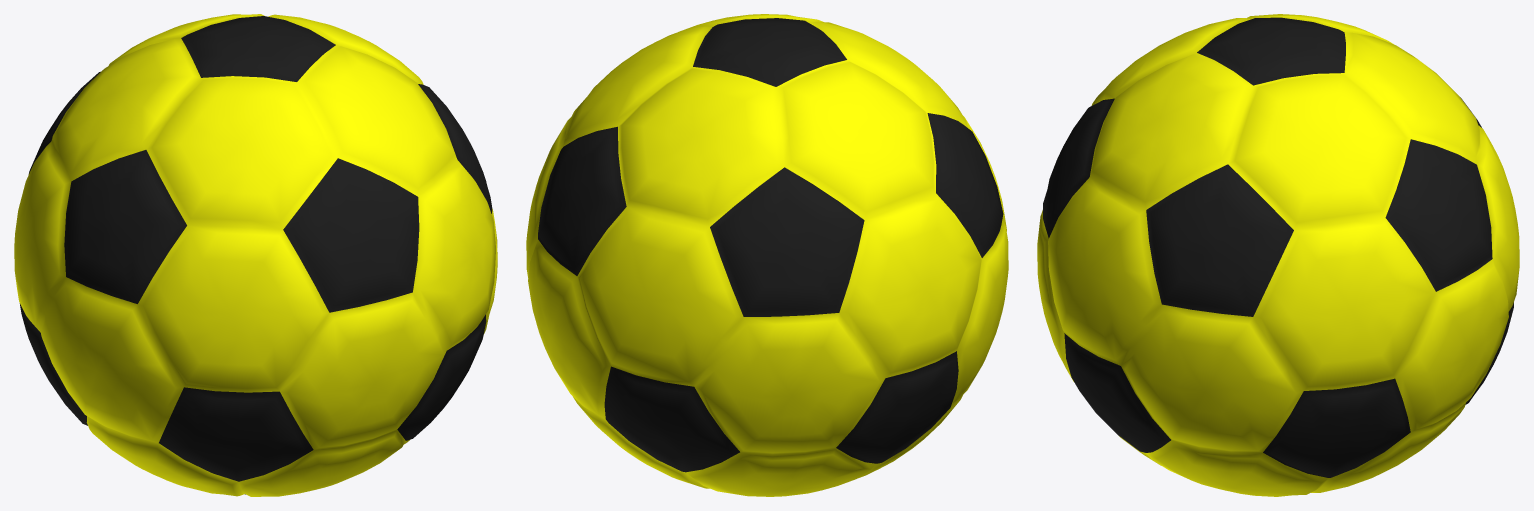
The model's file is soccerball.obj.
3 renders of one model, left to right at view 1: azimuth 30°, elevation 25°; view 2: azimuth 150°, elevation 25°; view 3: azimuth 270°, elevation 25°, orthographic.
Parts seen in each view (by area): view 1: soccerball; view 2: soccerball; view 3: soccerball.
Boxes of the visible parts, x1,y1,x2,y2 form: soccerball: [14, 14, 497, 496]; soccerball: [526, 14, 1008, 496]; soccerball: [1037, 14, 1519, 496].
Bounding box in the file's own units: 9.36 × 9.39 × 9.39.
